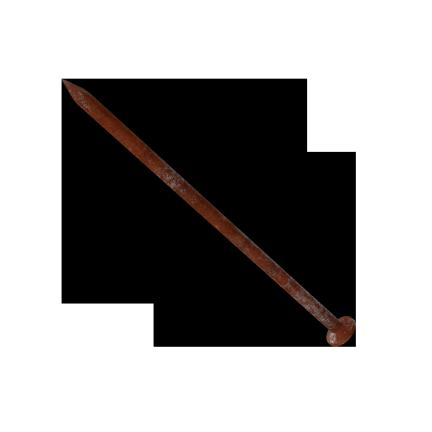karat: (63, 80, 355, 346)
